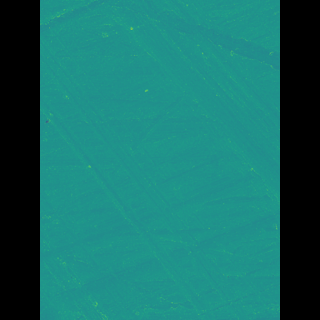Loch: (69, 36, 226, 319), (121, 0, 249, 208)
